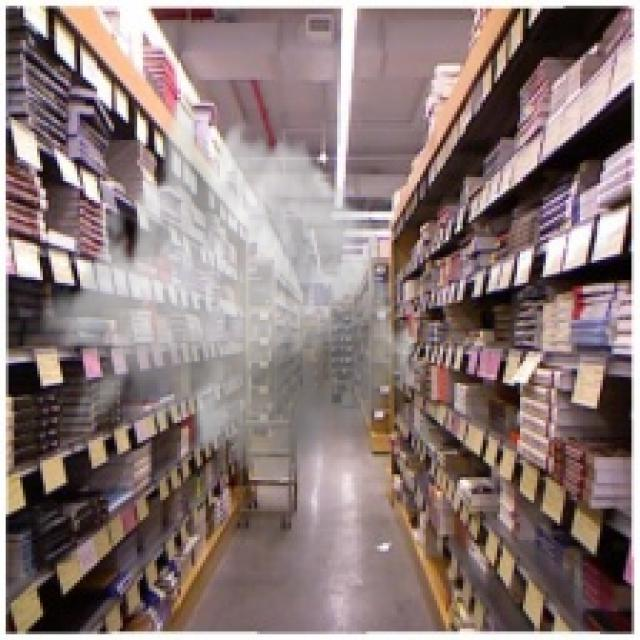smoke: (37, 92, 420, 497)
